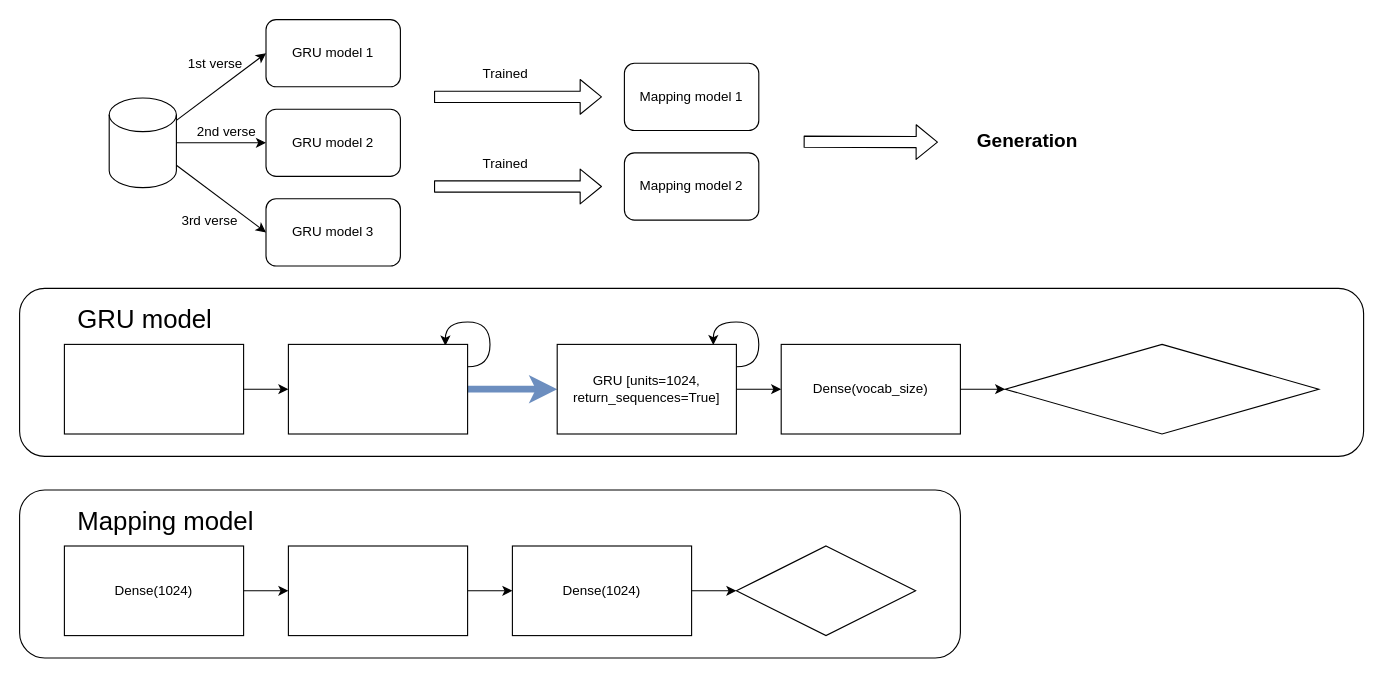
The diagram is 1383 pixels wide and 678 high, and some of its shapes have lost their labels. Here are the shapes that lost their labels. From the top down, the centre of each, then its label:
At pixel 142 142: "Dataset".
At pixel 153 388: "Embedding [vocab_size, embedding_dim=256]".
At pixel 377 388: "GRU [units=1024, return_sequences=False]".
At pixel 1161 388: "SparseCategoricalCrossentropy".
At pixel 377 590: "Dropout(0.5)".
At pixel 825 590: "MAE".
